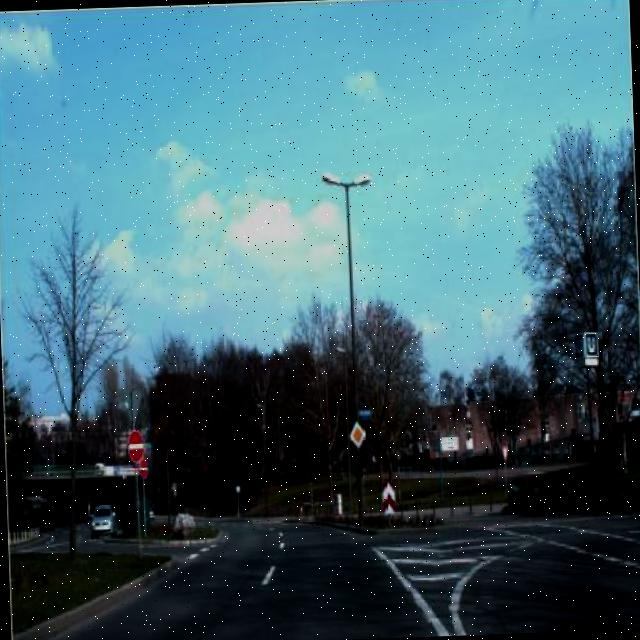Zakaz wjazdu: (126, 426, 146, 464)
